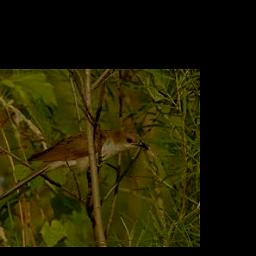Cuckoo: (0, 130, 148, 207)
